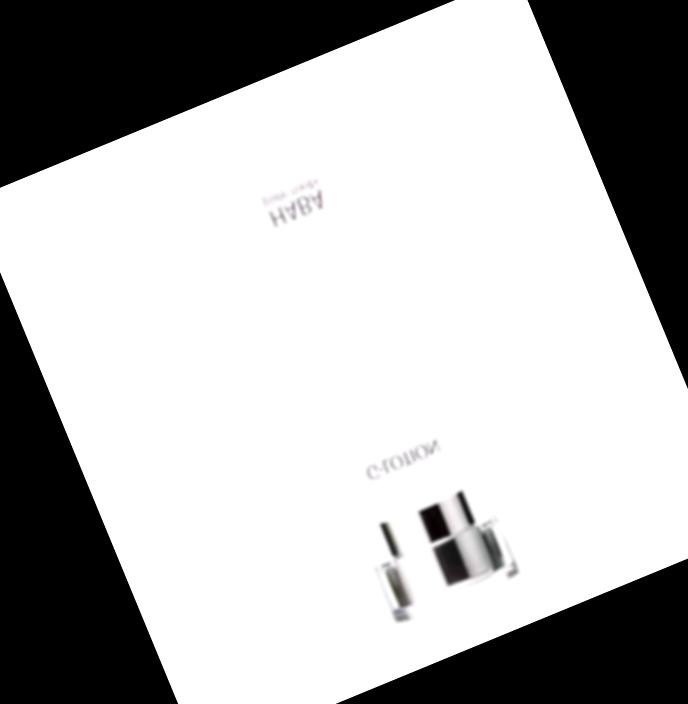cosmetic: (193, 91, 529, 628)
